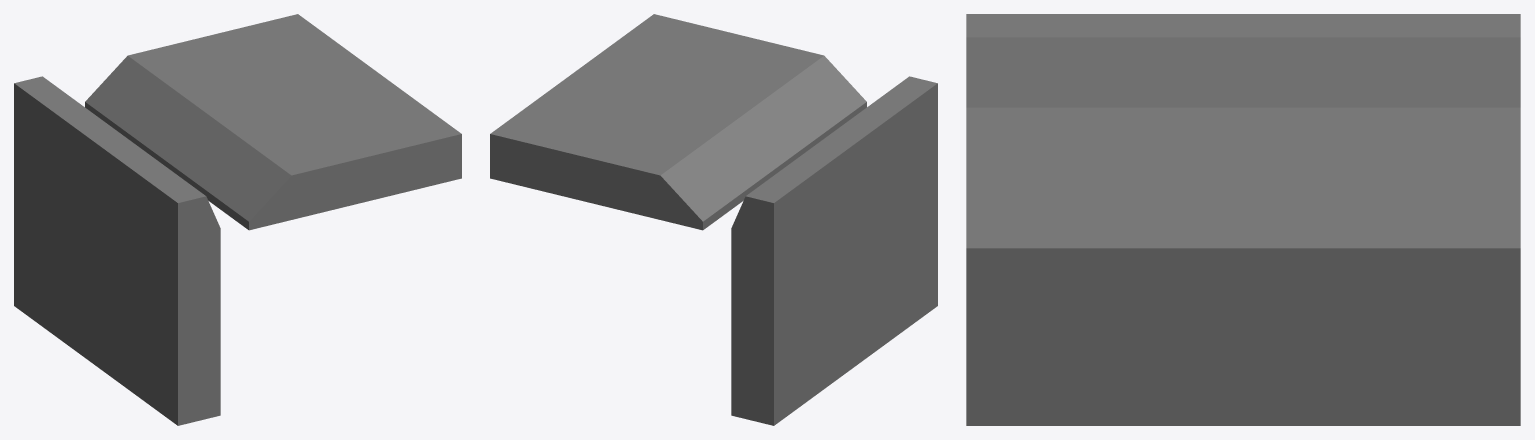
File: У6_Кромки.glb
3 views of the same model, side by side, from view 1: azimuth 30°, elevation 25°; view 2: azimuth 150°, elevation 25°; view 3: azimuth 270°, elevation 25° (orthographic). The views are drawn at different scales.
Visible parts, largest first — view 1: node_id3; view 2: node_id3; view 3: node_id3.
Part boxes in pixels (<box>): node_id3: <box>14,14,461,425</box>; node_id3: <box>490,14,937,425</box>; node_id3: <box>966,14,1520,425</box>.
Size of the model in its own units: 0.512 by 0.384 by 0.512.
1 material, 1 textured.
